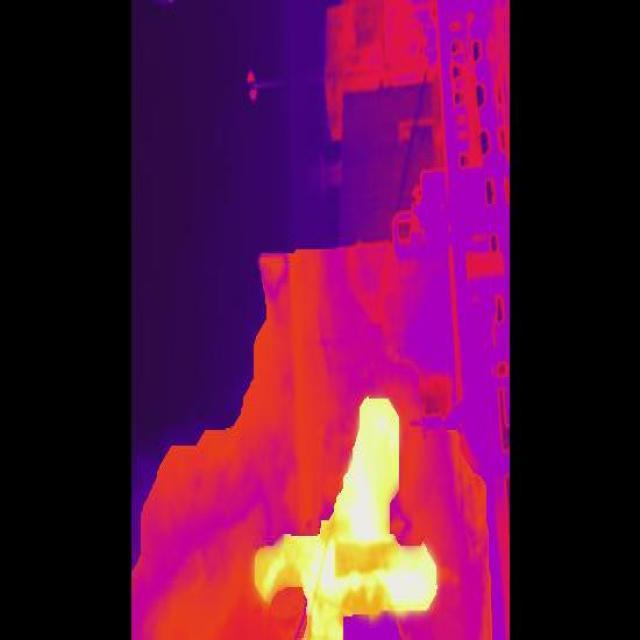fire: (251, 399, 439, 640)
